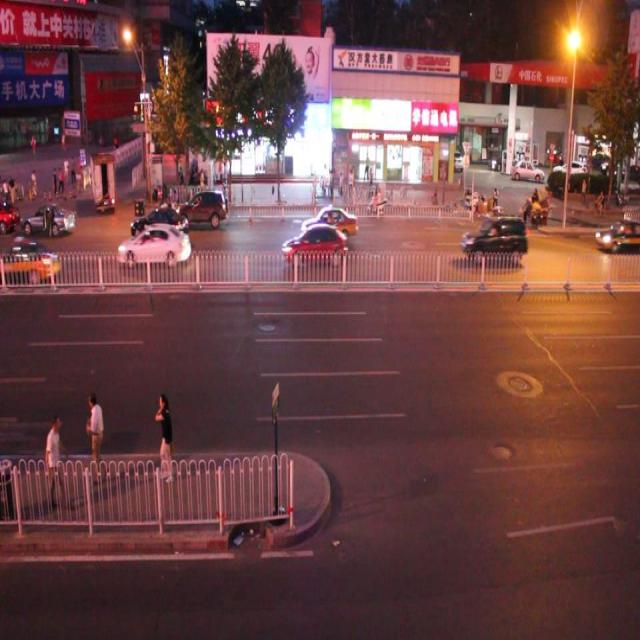bus: (90, 151, 118, 209)
car: (118, 222, 192, 269), (461, 211, 525, 265), (1, 238, 60, 286), (281, 223, 346, 266), (174, 190, 228, 236), (20, 196, 77, 238), (131, 202, 189, 240), (302, 204, 358, 240), (592, 217, 640, 254)
